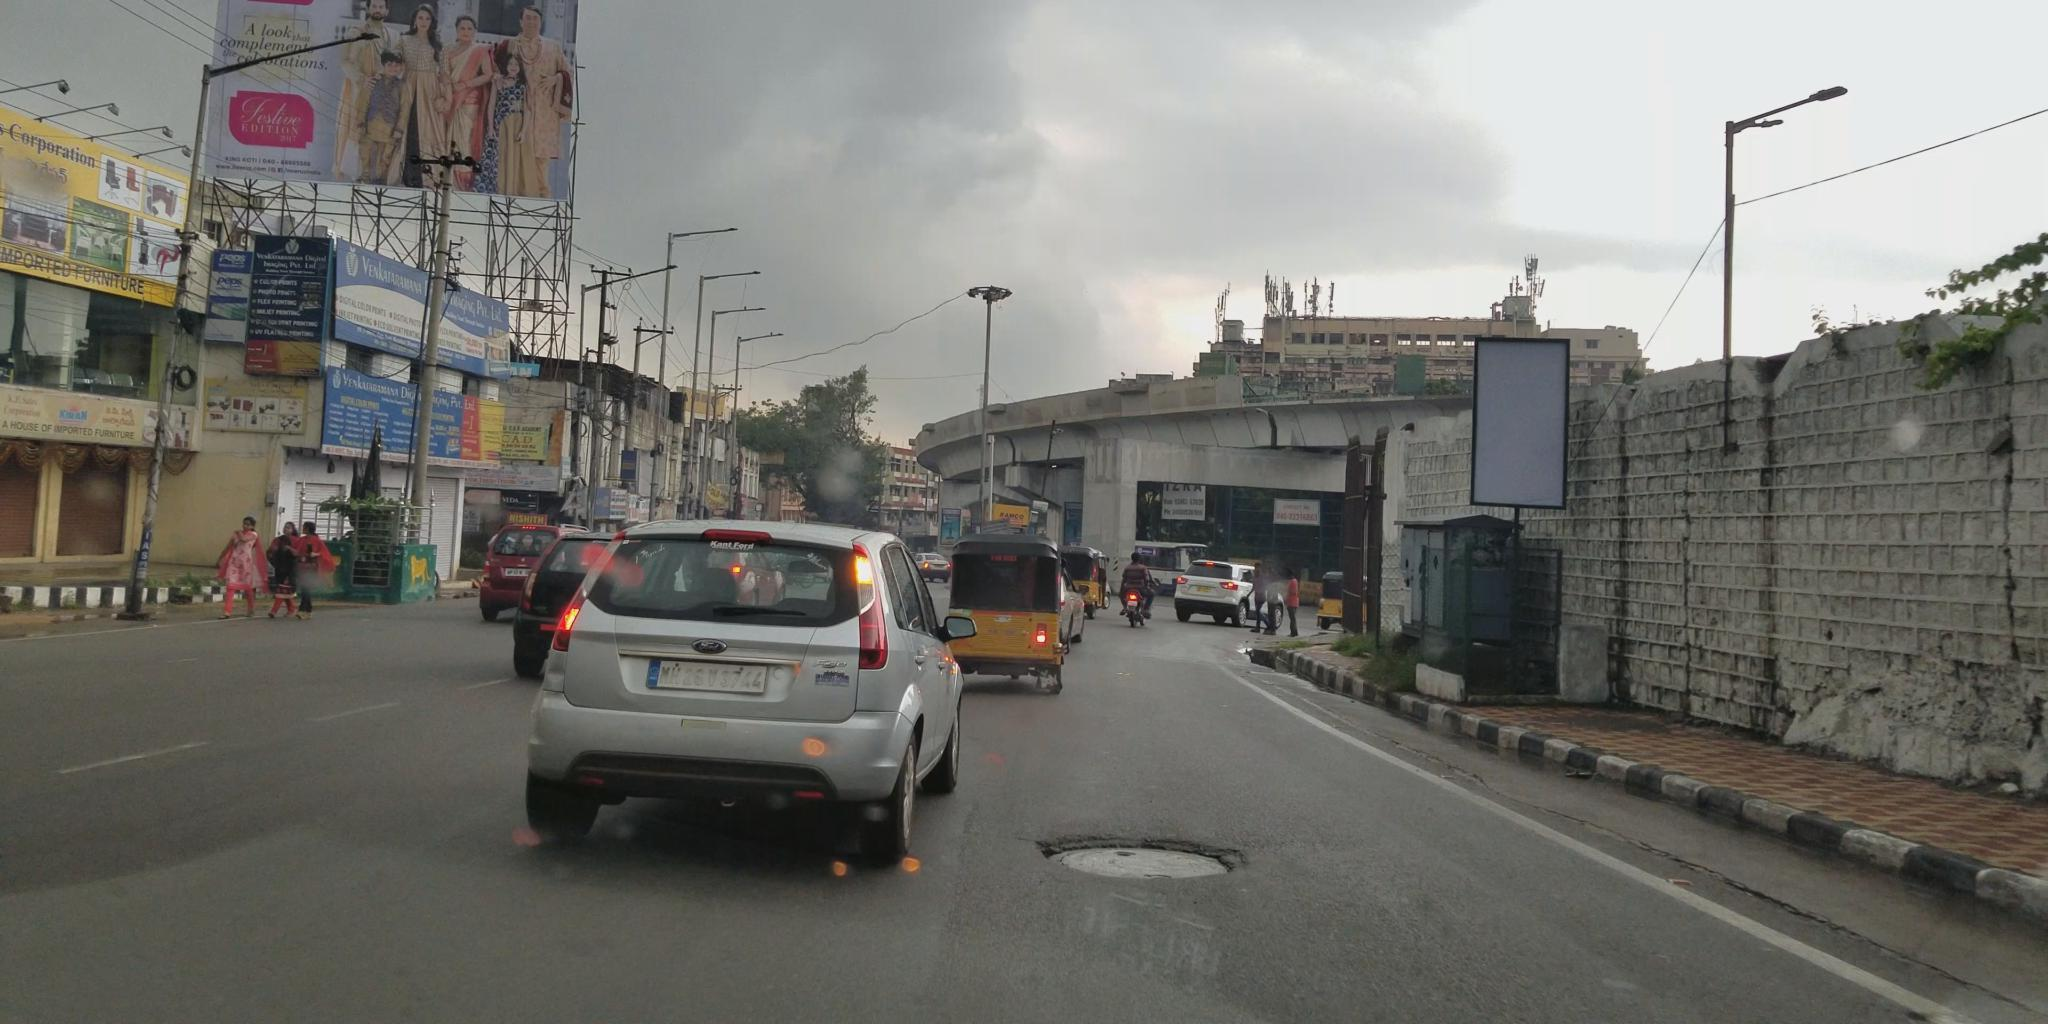off: (0, 0, 1941, 1024)
